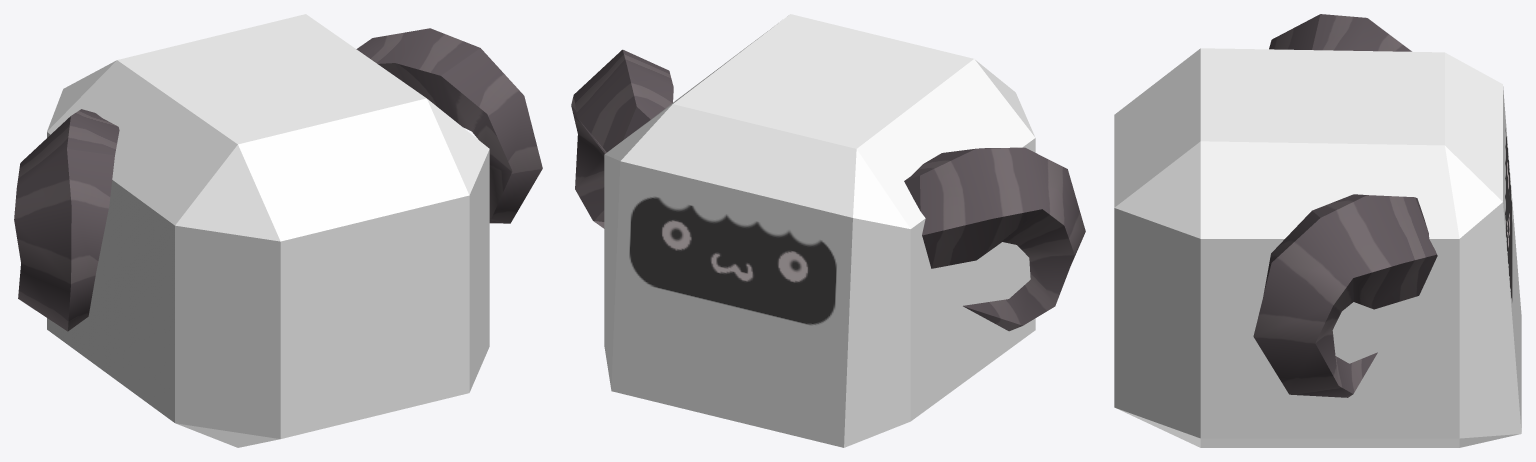
File: sheep1.fbx
3 renders of one model, left to right at view 1: azimuth 30°, elevation 25°; view 2: azimuth 150°, elevation 25°; view 3: azimuth 270°, elevation 25°, orthographic. The views are drawn at different scales.
Parts seen in each view (by area): view 1: polySurface4; view 2: polySurface4; view 3: polySurface4.
Part boxes in pixels (bbox=[...]): polySurface4: bbox=[14, 14, 542, 447]; polySurface4: bbox=[571, 14, 1085, 447]; polySurface4: bbox=[1114, 14, 1521, 447].
Bounding box in the file's own units: 5.73 × 3.25 × 3.92.
1 material, 1 textured.
